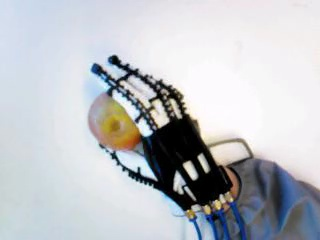apple: (84, 85, 147, 151)
hand: (90, 54, 233, 218)
